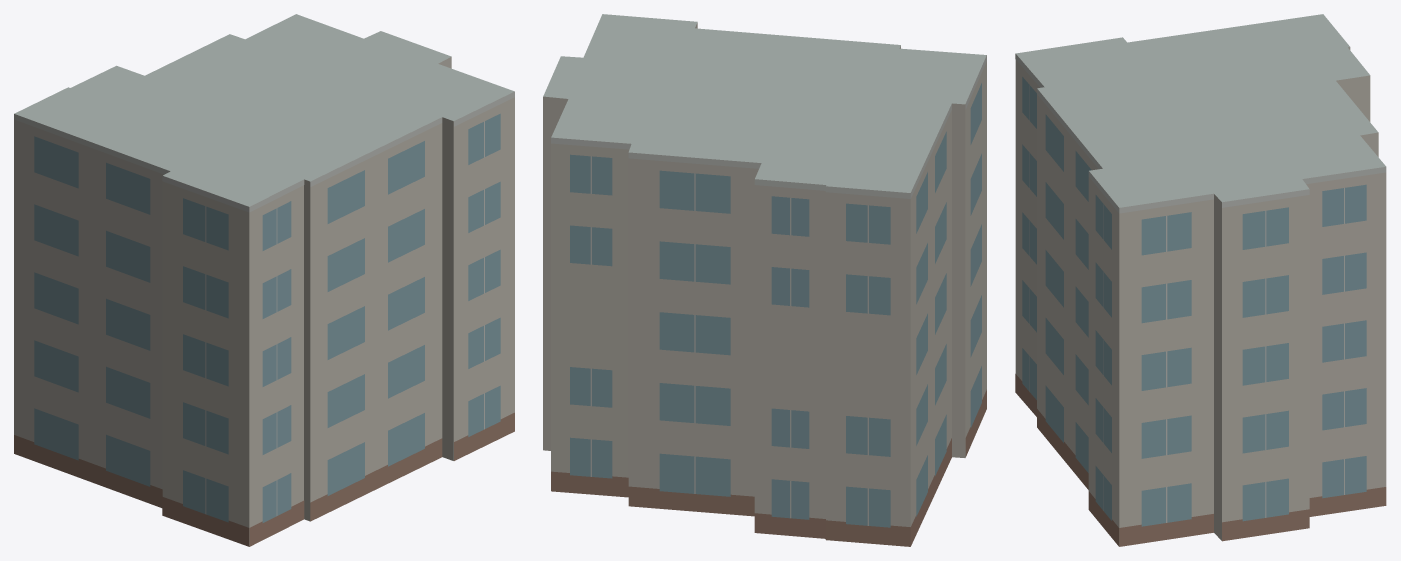
Rendered from survey-upis-32492300.glb.
The picture shows the model from 3 angles, left to right: view 1: azimuth 30°, elevation 25°; view 2: azimuth 150°, elevation 25°; view 3: azimuth 270°, elevation 25°; orthographic projection. The views are drawn at different scales.
Visible parts, largest first — view 1: survey-upis-32492300.tmp; view 2: survey-upis-32492300.tmp; view 3: survey-upis-32492300.tmp.
Part boxes in pixels (<box>): survey-upis-32492300.tmp: <box>14,14,514,546</box>; survey-upis-32492300.tmp: <box>543,14,986,546</box>; survey-upis-32492300.tmp: <box>1015,14,1386,546</box>.
Size of the model in its own units: 17.8 by 14.5 by 14.39.
